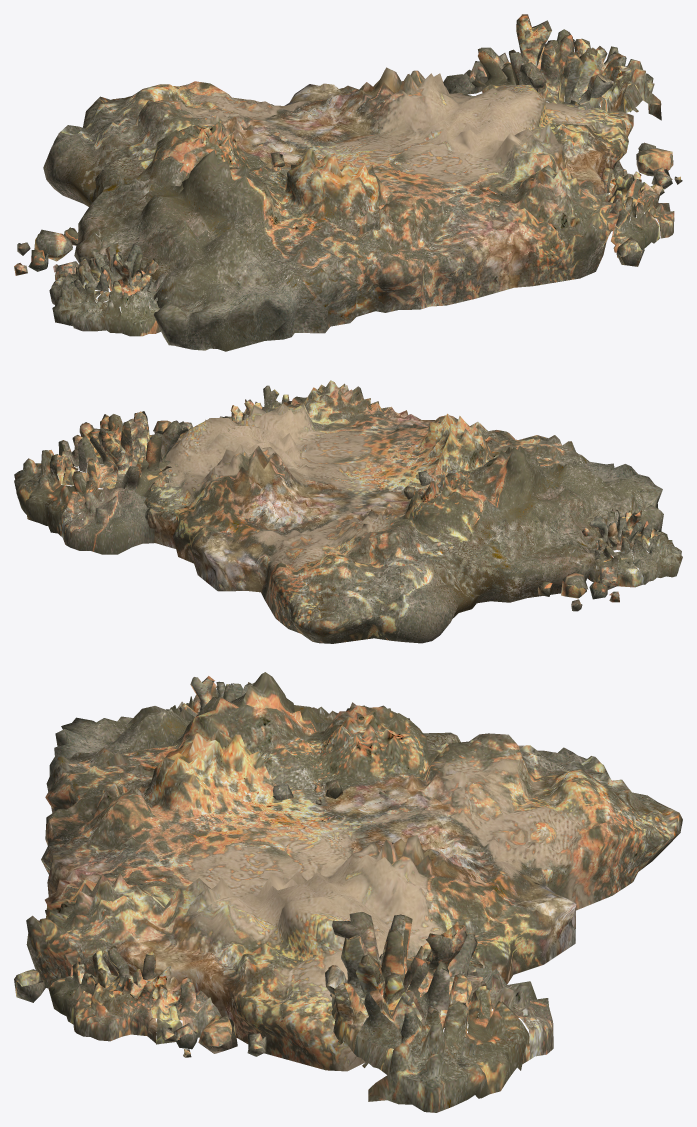
Rendered from Rock1.glb.
3 renders of one model, top to bottom at view 1: azimuth 30°, elevation 25°; view 2: azimuth 150°, elevation 25°; view 3: azimuth 270°, elevation 25°, orthographic. The views are drawn at different scales.
Visible parts, largest first — view 1: floor_modul_006_Material #5539_0; view 2: floor_modul_006_Material #5539_0; view 3: floor_modul_006_Material #5539_0.
Boxes of the visible parts, <box> form: floor_modul_006_Material #5539_0: <box>14,14,682,351</box>; floor_modul_006_Material #5539_0: <box>14,380,682,643</box>; floor_modul_006_Material #5539_0: <box>14,672,682,1112</box>.
Bounding box in the file's own units: 5.49 × 0.9663 × 3.91.
1 material, 1 textured.
